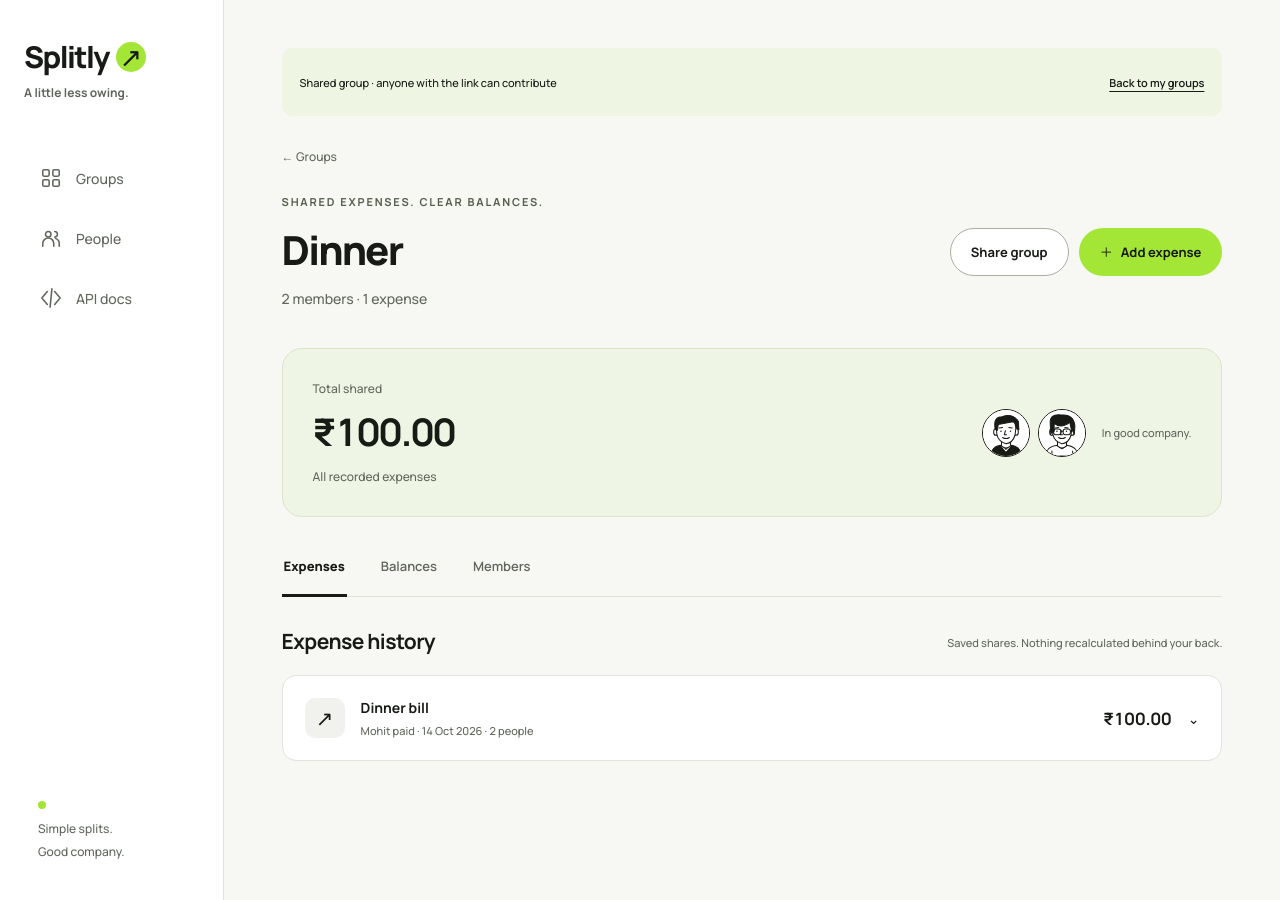
joins a group link, rejects incomplete links and restores retained owner workspace
The image size is (1280, 900).
Click the button "Back to my groups" at (1157, 82), box [1109,60,1204,104]
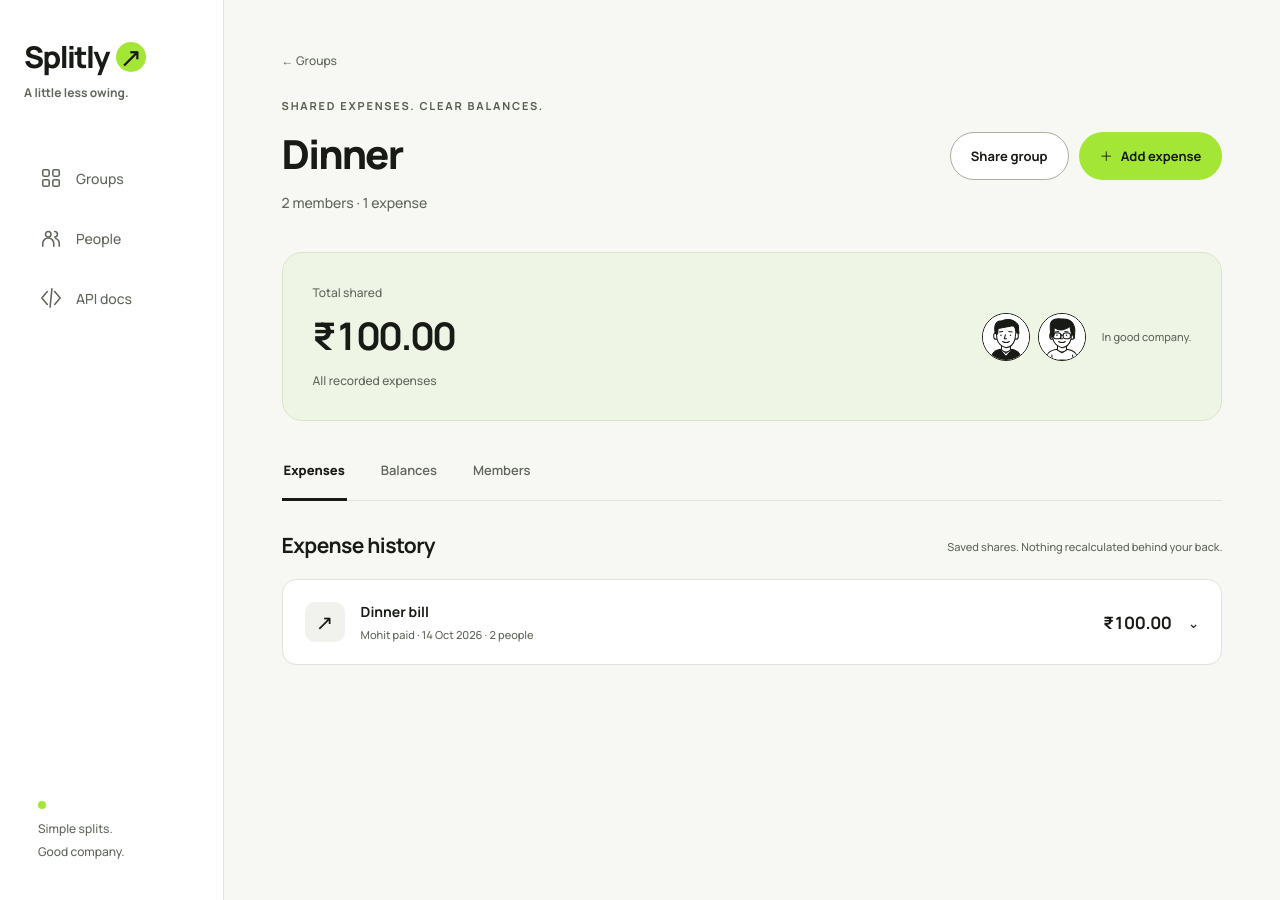
Result: the button "Back to my groups" is gone
Click the link "Groups" at (82, 178), box [40,167,124,189]
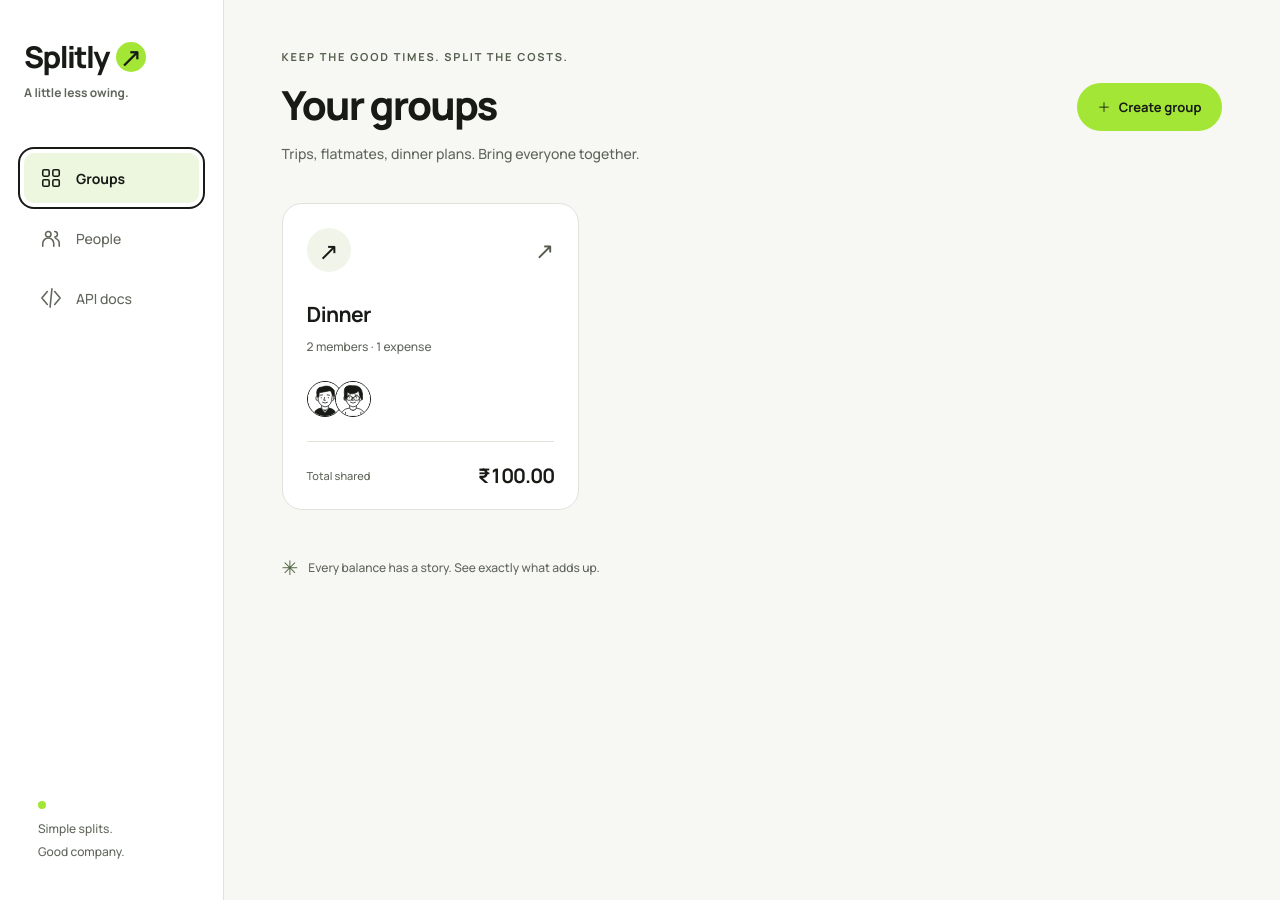
Result: the button "＋ Create group" is shown at [1077,83,1222,131]
